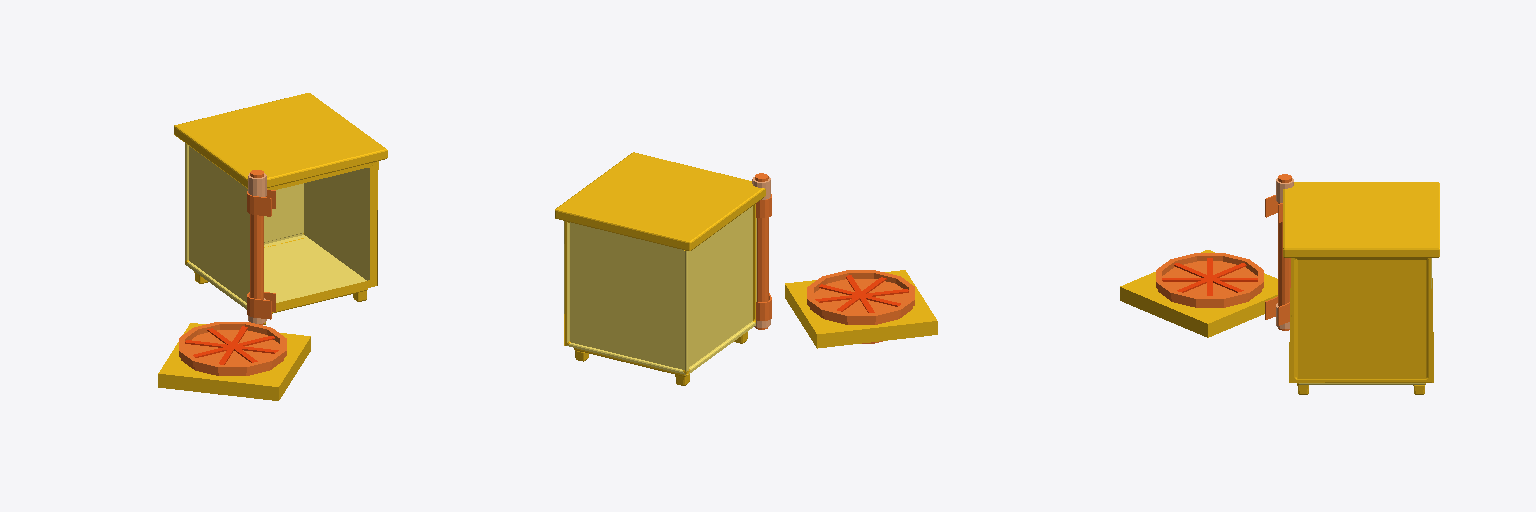
Rendered from safe_son.obj.
3 renders of one model, left to right at view 1: azimuth 30°, elevation 25°; view 2: azimuth 150°, elevation 25°; view 3: azimuth 270°, elevation 25°, orthographic.
Visible parts, largest first — view 1: Cube.035_Material.025, Cube.035_Material.019, Cube.035_Material.021, Cube.035_Material.022, Cube.035_Material.017; view 2: Cube.035_Material.025, Cube.035_Material.019, Cube.035_Material.021, Cube.035_Material.022, Cube.035_Material.017; view 3: Cube.035_Material.019, Cube.035_Material.021, Cube.035_Material.022, Cube.035_Material.017.
Part boxes in pixels (x1,y1,x2,y2): Cube.035_Material.025: (185, 143, 369, 309); Cube.035_Material.019: (174, 93, 387, 324); Cube.035_Material.021: (179, 170, 286, 394); Cube.035_Material.022: (158, 323, 310, 400); Cube.035_Material.017: (185, 326, 278, 364); Cube.035_Material.025: (564, 206, 756, 375); Cube.035_Material.019: (555, 152, 765, 385); Cube.035_Material.021: (755, 173, 914, 343); Cube.035_Material.022: (785, 270, 937, 348); Cube.035_Material.017: (815, 275, 908, 312); Cube.035_Material.019: (1283, 182, 1439, 394); Cube.035_Material.021: (1156, 174, 1291, 330); Cube.035_Material.022: (1120, 250, 1277, 337); Cube.035_Material.017: (1162, 258, 1257, 295).
Size of the model in its own units: 61.26 by 35.37 by 63.61.